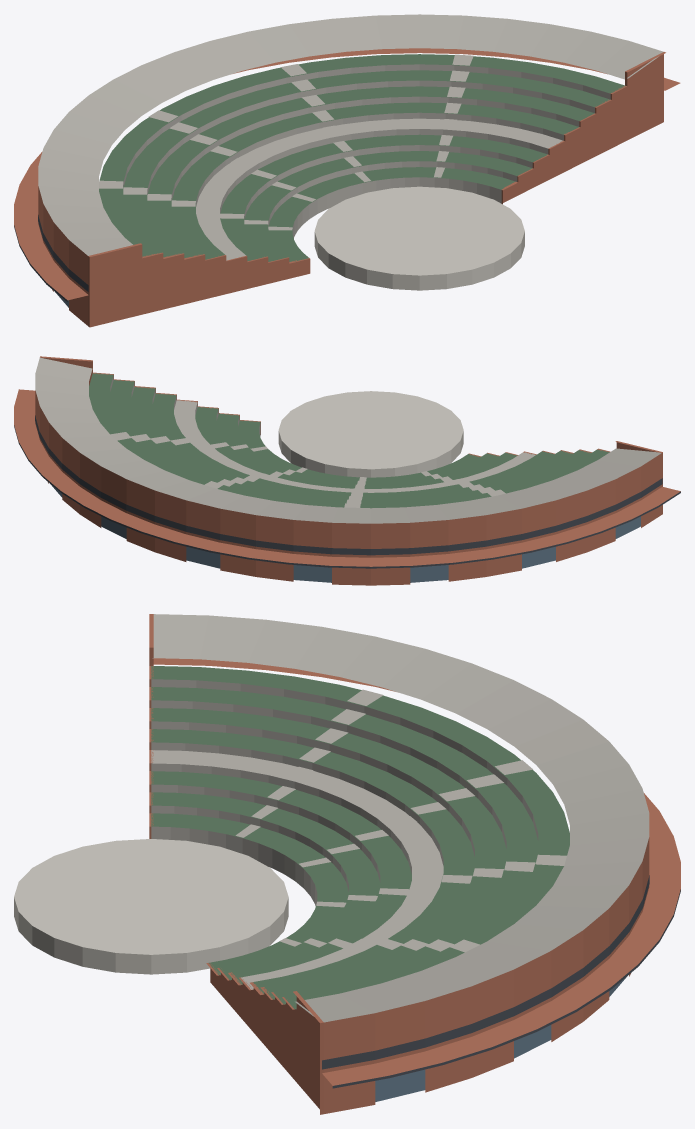
The model's file is nyc-delacorte-theater.glb.
The picture shows the model from 3 angles, top to bottom: view 1: azimuth 30°, elevation 25°; view 2: azimuth 150°, elevation 25°; view 3: azimuth 270°, elevation 25°; orthographic projection. The views are drawn at different scales.
Visible parts, largest first — view 1: Delacorte Theater; view 2: Delacorte Theater; view 3: Delacorte Theater.
Part boxes in pixels (x1=…): Delacorte Theater: x1=14, y1=14, x2=680, y2=327; Delacorte Theater: x1=14, y1=356, x2=680, y2=585; Delacorte Theater: x1=14, y1=614, x2=680, y2=1114.
Bounding box in the file's own units: 71.19 × 7 × 46.14.
